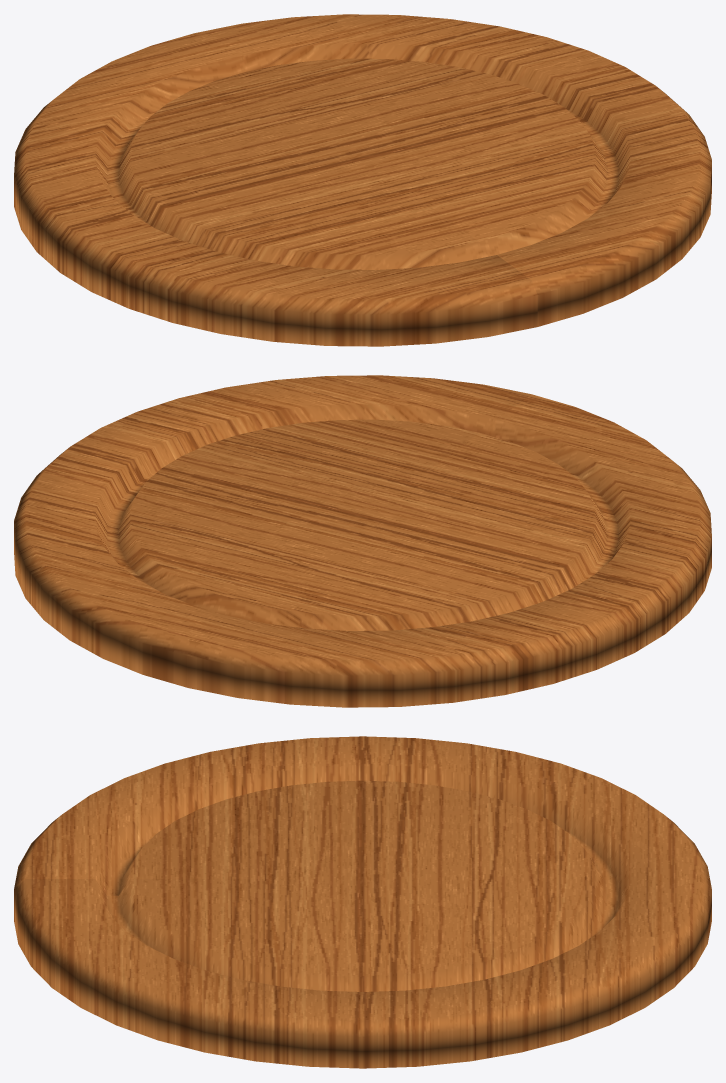
File: MAD-02.glb
3 renders of one model, top to bottom at view 1: azimuth 30°, elevation 25°; view 2: azimuth 150°, elevation 25°; view 3: azimuth 270°, elevation 25°, orthographic.
Size of the model in its own units: 0.3 by 0.02 by 0.3.
1 material, 1 textured.
